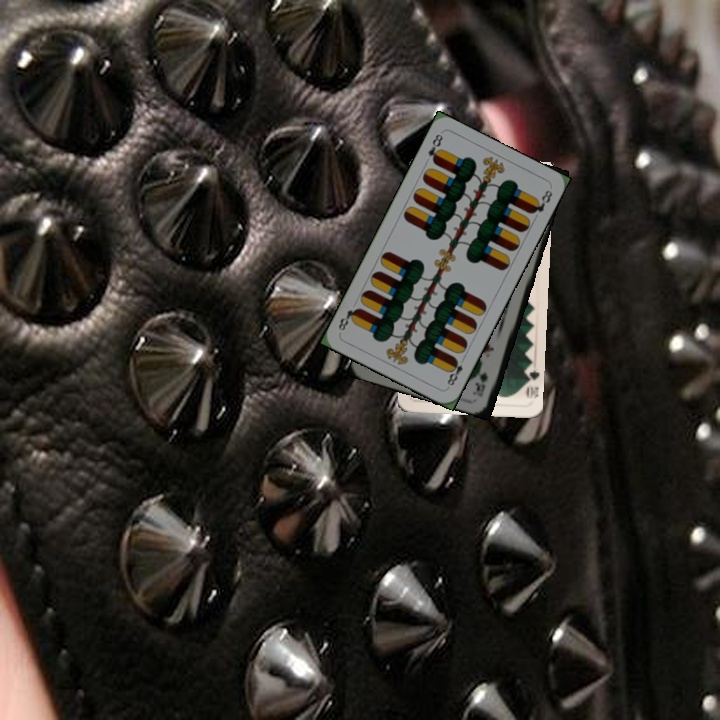E8: (443, 352, 468, 388), (424, 130, 446, 166)
G10: (521, 365, 541, 401)
GK: (471, 368, 490, 399)
